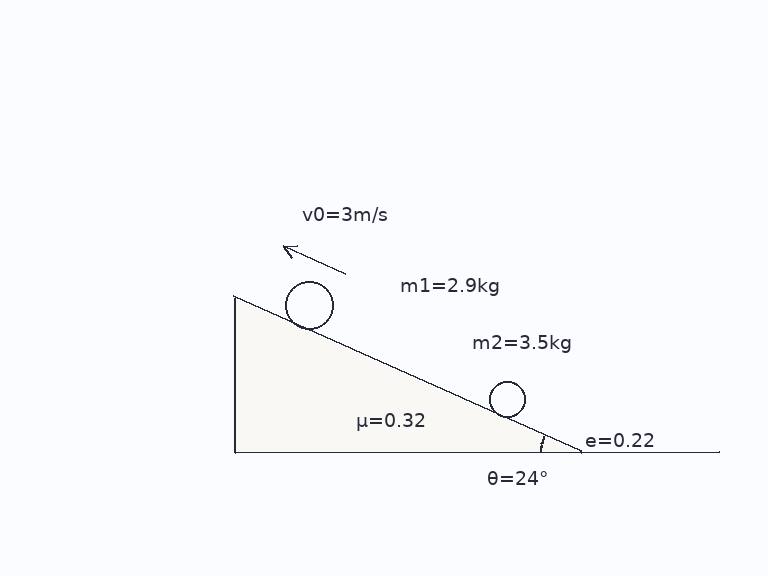ball: (283, 279, 335, 331), (487, 379, 527, 419)
ramp: (232, 295, 583, 454)
